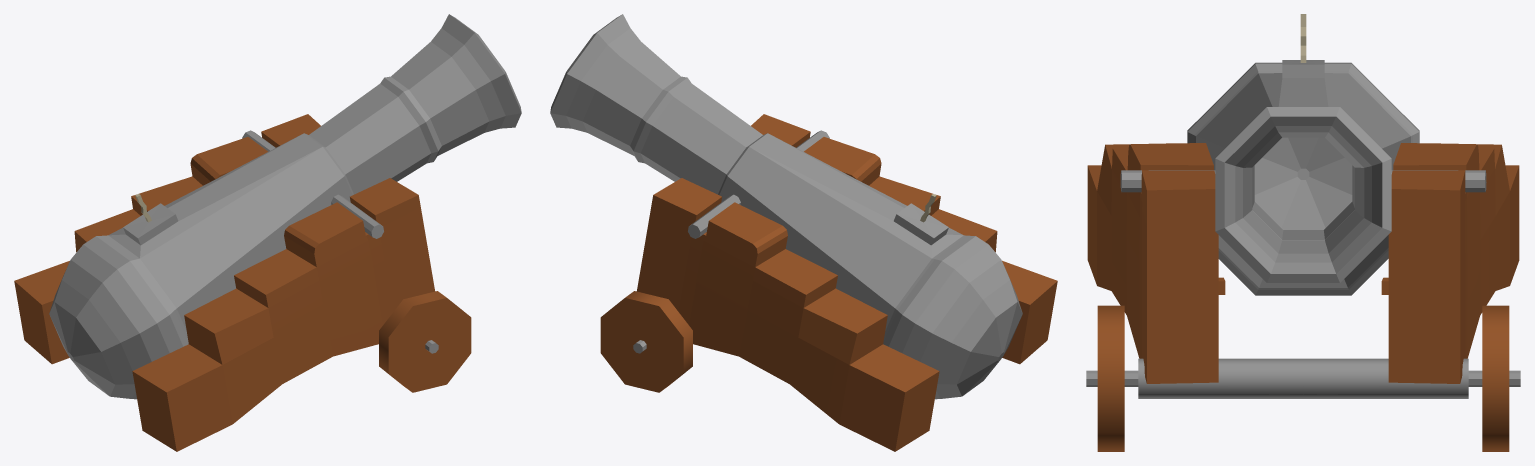
The model's file is Cannon_Tilted.fbx.
The picture shows the model from 3 angles, left to right: view 1: azimuth 30°, elevation 25°; view 2: azimuth 150°, elevation 25°; view 3: azimuth 270°, elevation 25°; orthographic projection. The views are drawn at different scales.
Visible parts, largest first — view 1: Cylinder.004; view 2: Cylinder.004; view 3: Cylinder.004.
Part boxes in pixels (x1,y1,x2,y2): Cylinder.004: (14, 14, 521, 451); Cylinder.004: (550, 14, 1057, 451); Cylinder.004: (1086, 14, 1520, 451).
Size of the model in its own units: 1250 by 758 by 781.
